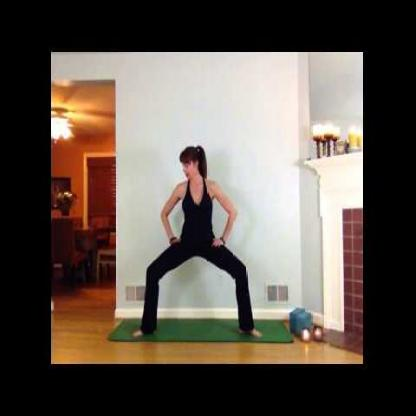godness: (125, 136, 267, 341)
